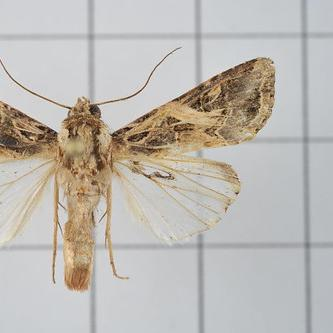Spodoptera litura: (1, 47, 276, 293)
